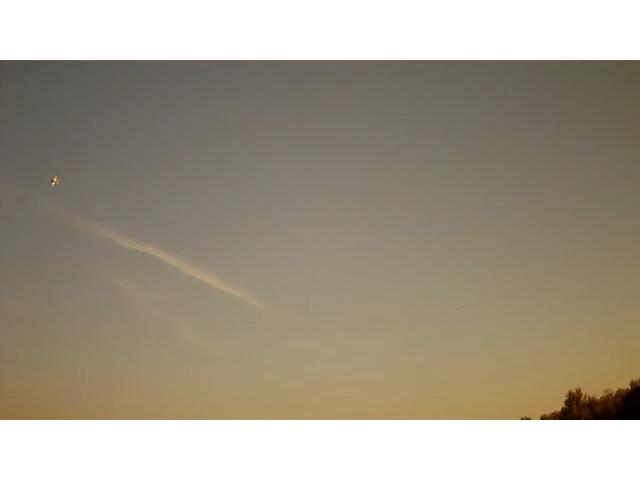Anti-Drone: (48, 173, 64, 189)
